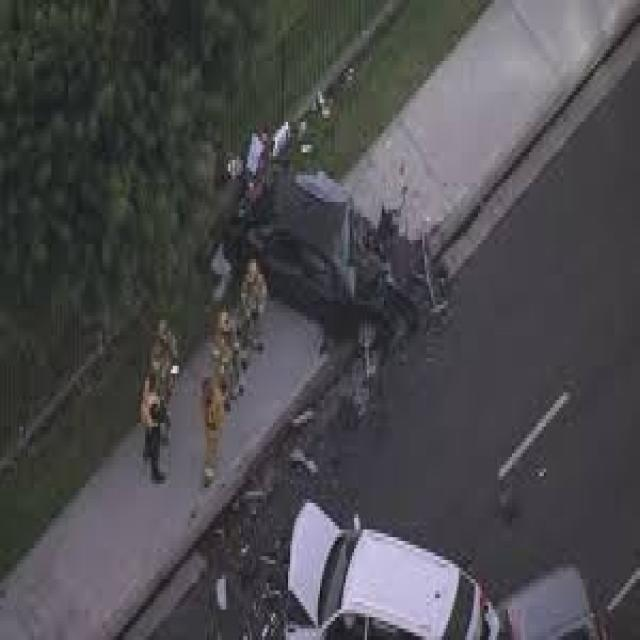accident: (224, 138, 461, 383), (265, 491, 603, 640)
